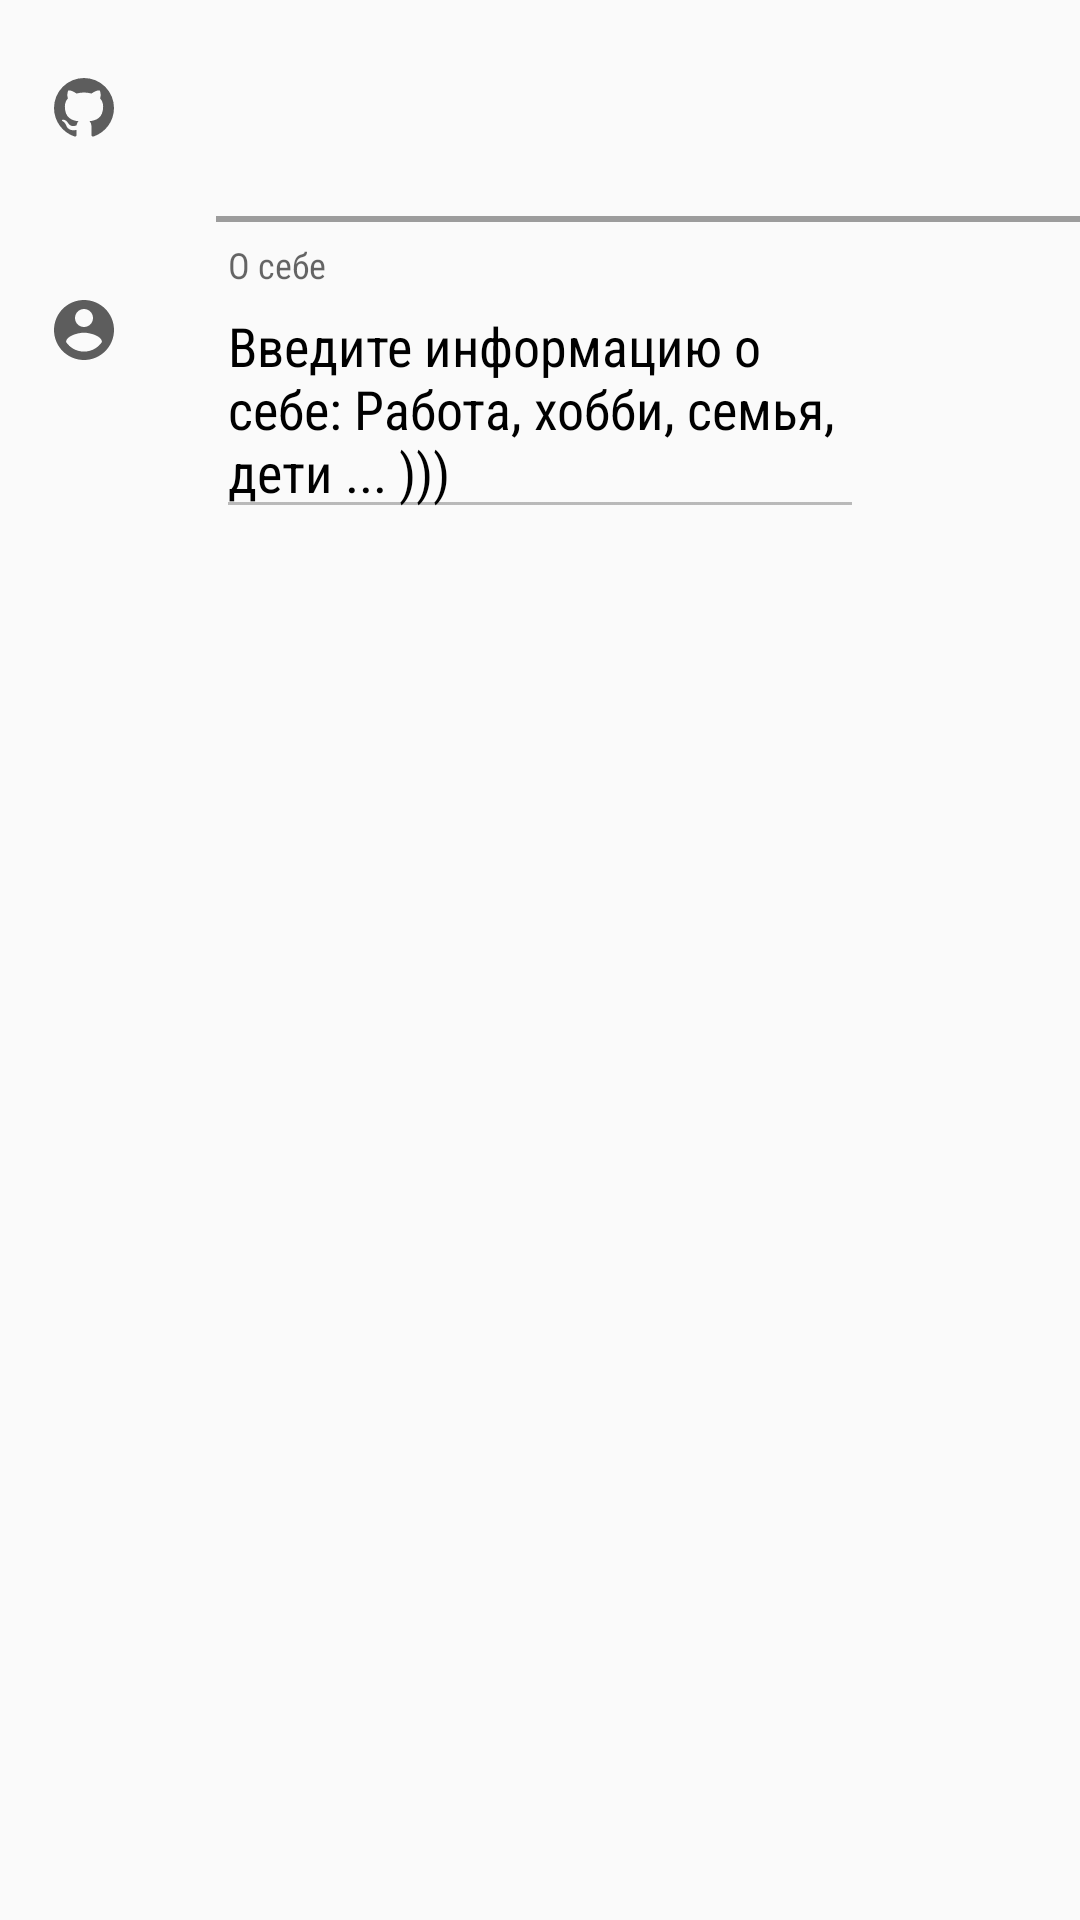

Screen size 1080×1920. Icon name, then its box in pixels as (x1, y1, x2, y2):
account circle: (54, 300, 114, 360)
